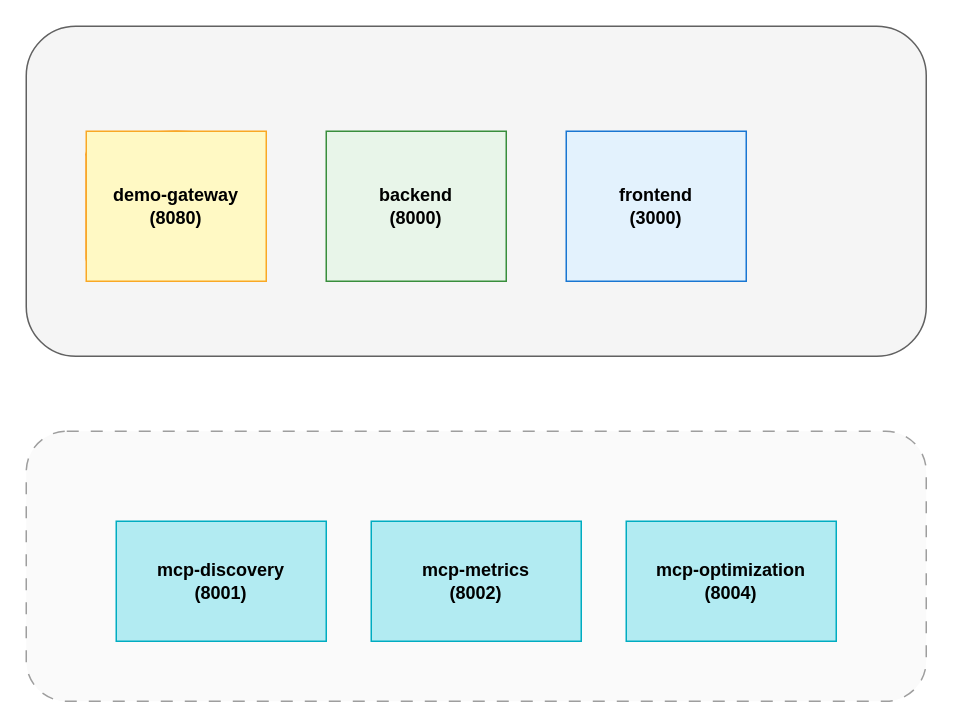
Some shapes in this 953 by 728 pixel diagram are drawn without their labels. The shapes that lost their labels are listed below. From the top down, each one's box as (x1, y1, x2, y2) in pixels, then its label:
(25, 25, 926, 356): Docker Compose (Core Application)
(25, 430, 926, 701): Optional (for AI agent integration)
